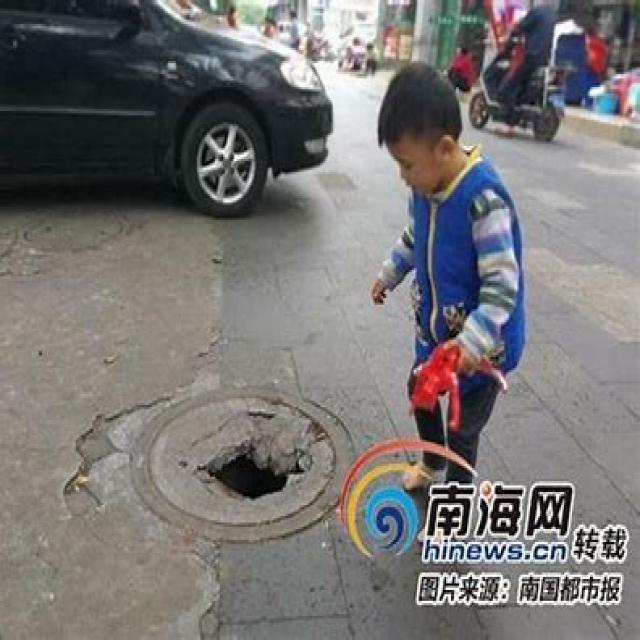manhole: (125, 387, 349, 547)
